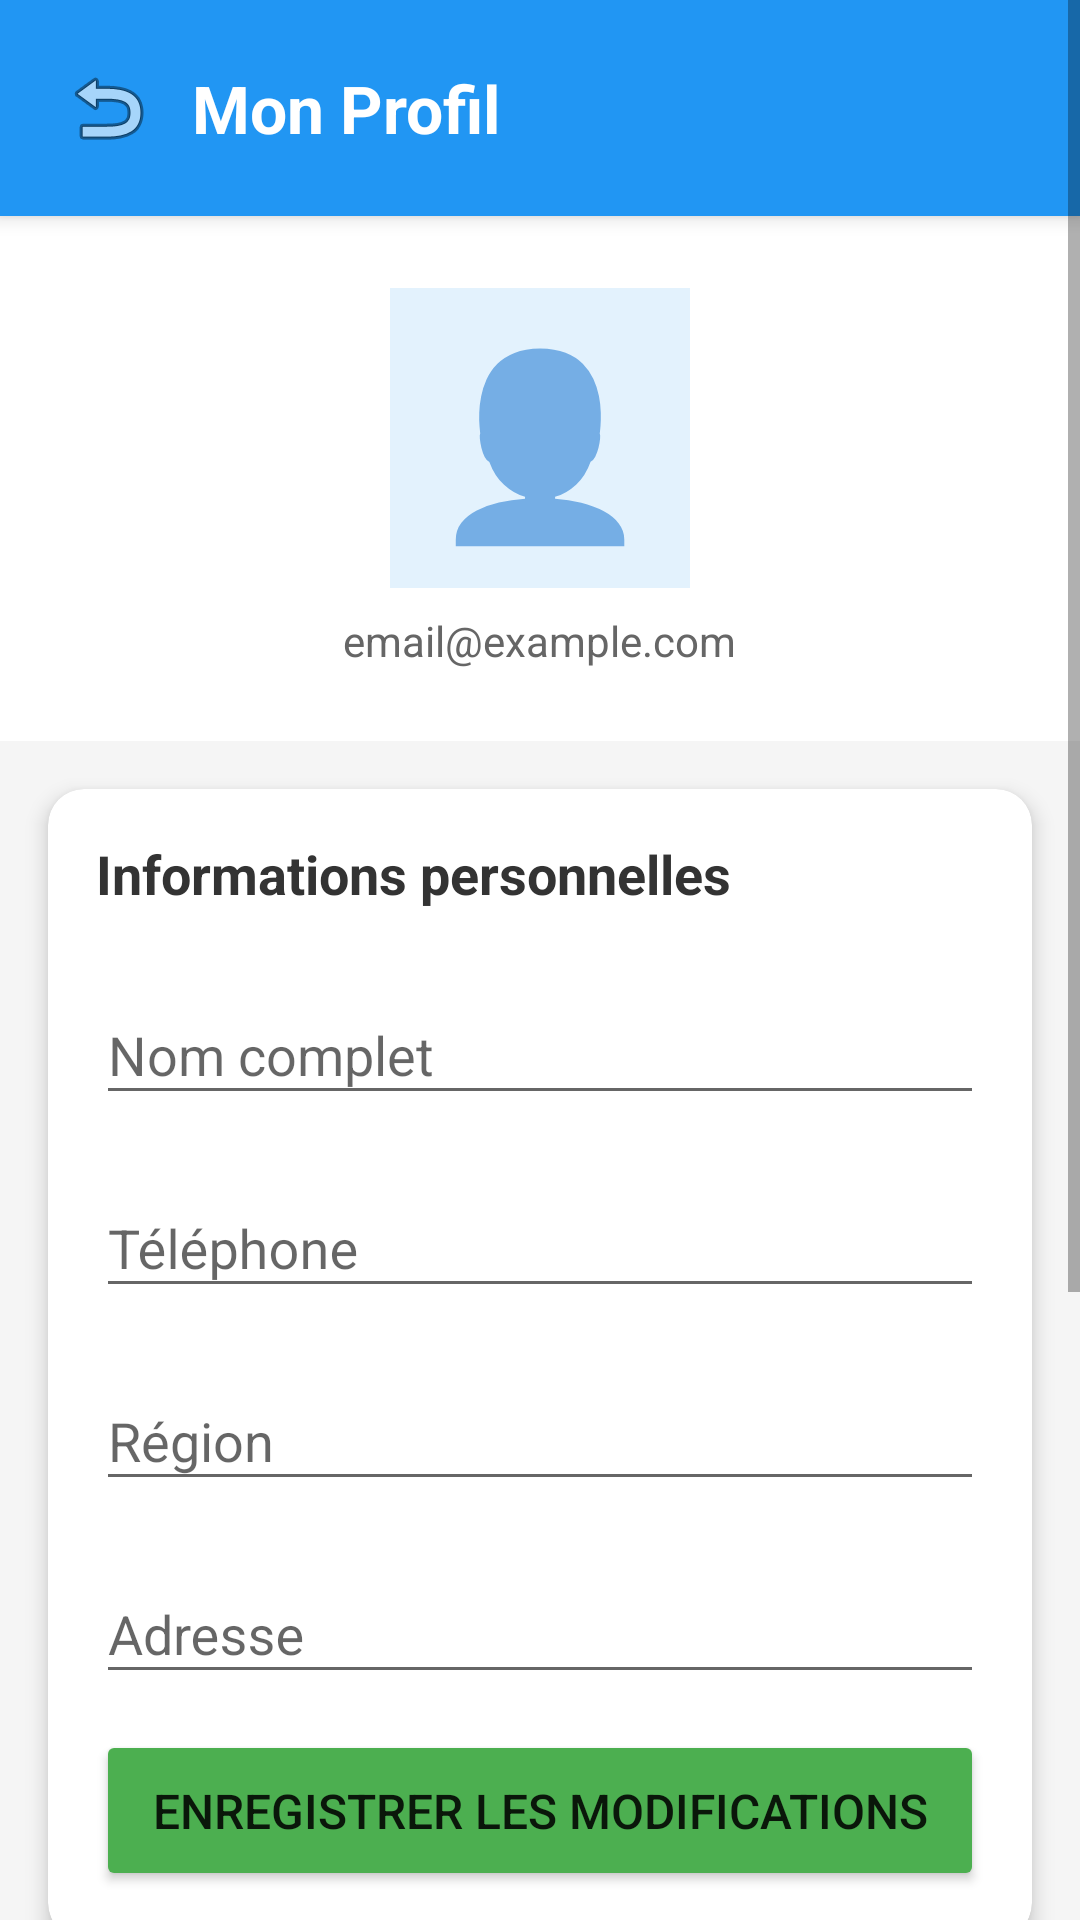

Icons on this 1080x1920 Android screen, each with its box as (x1, y1, x2, y2):
Retour: (75, 77, 144, 140)
